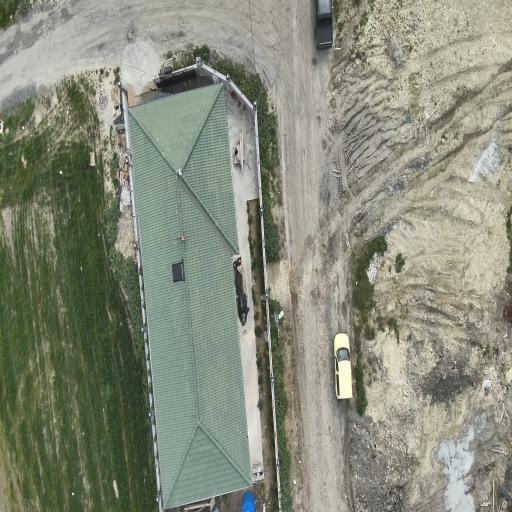car: (334, 333, 352, 398), (315, 0, 333, 49)
